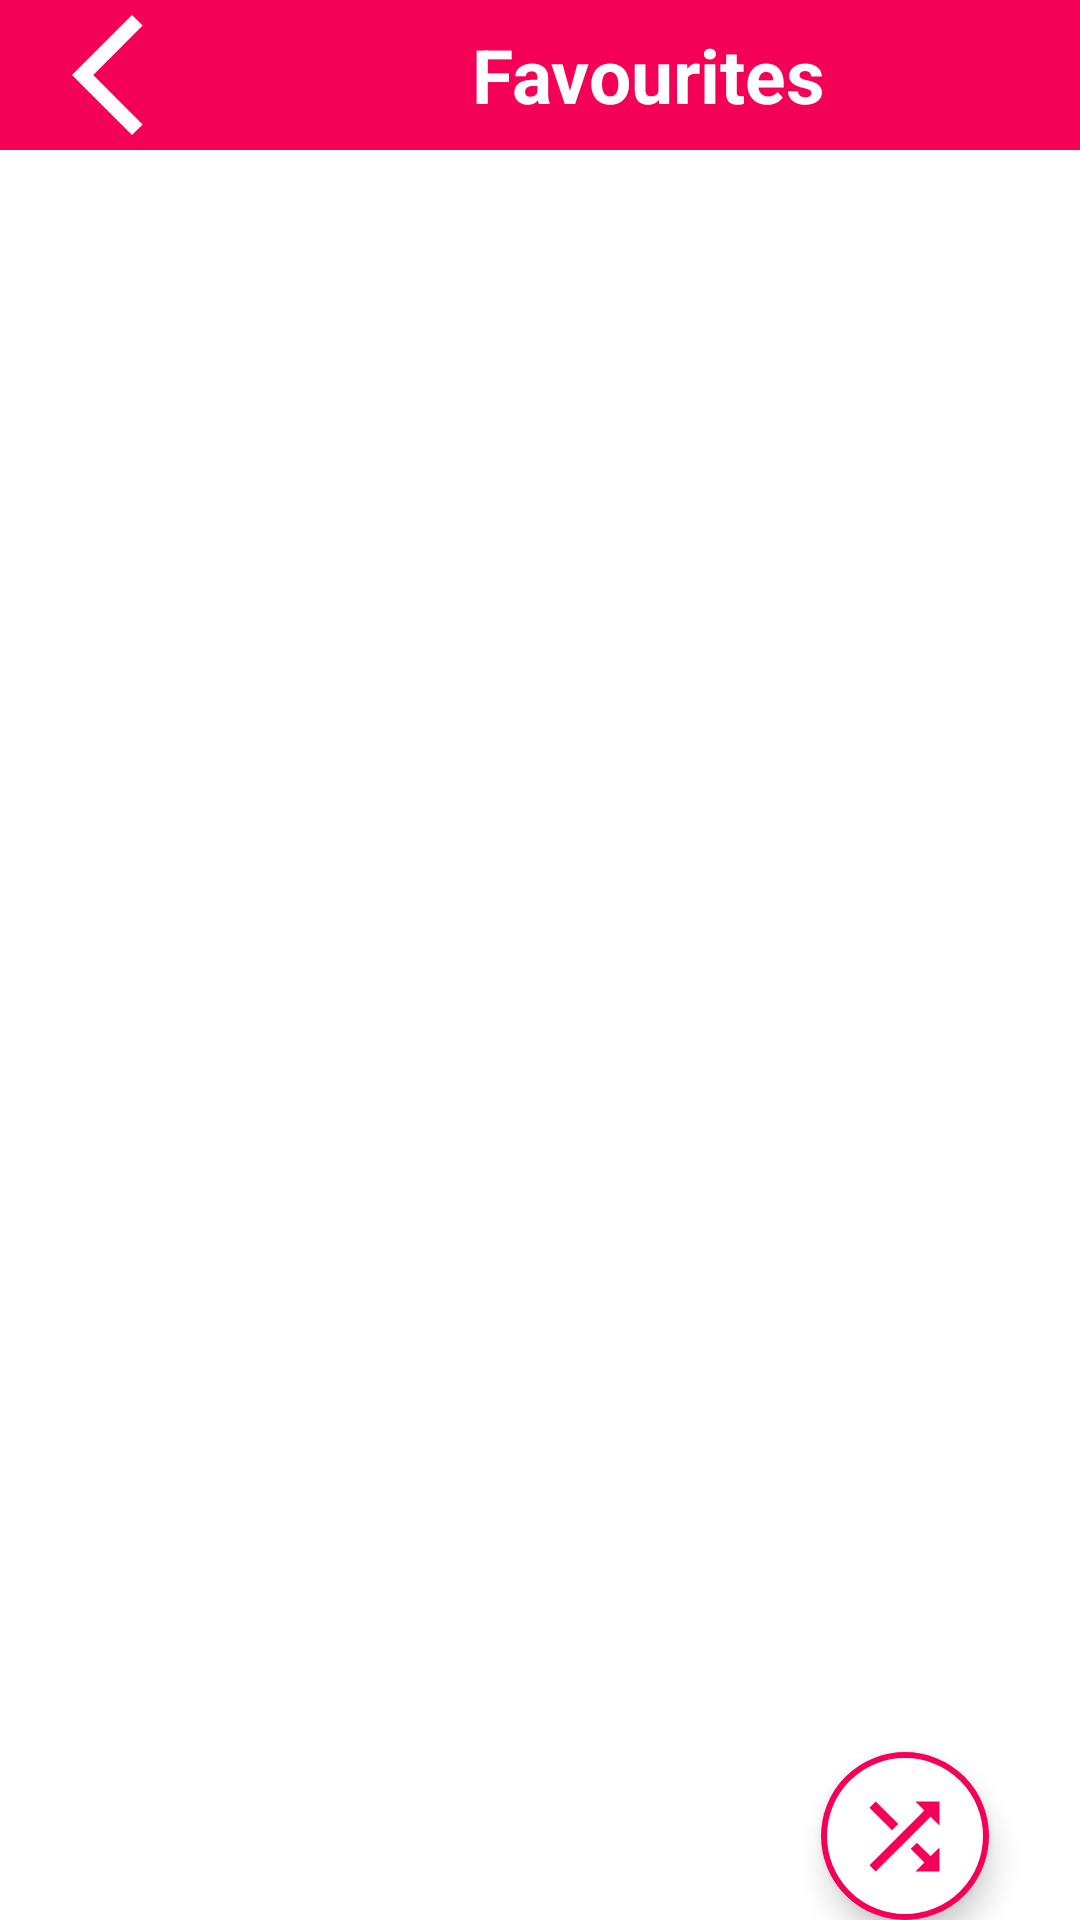

Locate icon controls on the screen. Image size 1080px×1920px, boxes as (x1, y1, x2, y2).
Back: (72, 15, 143, 135)
Shuffle: (821, 1752, 989, 1920)
